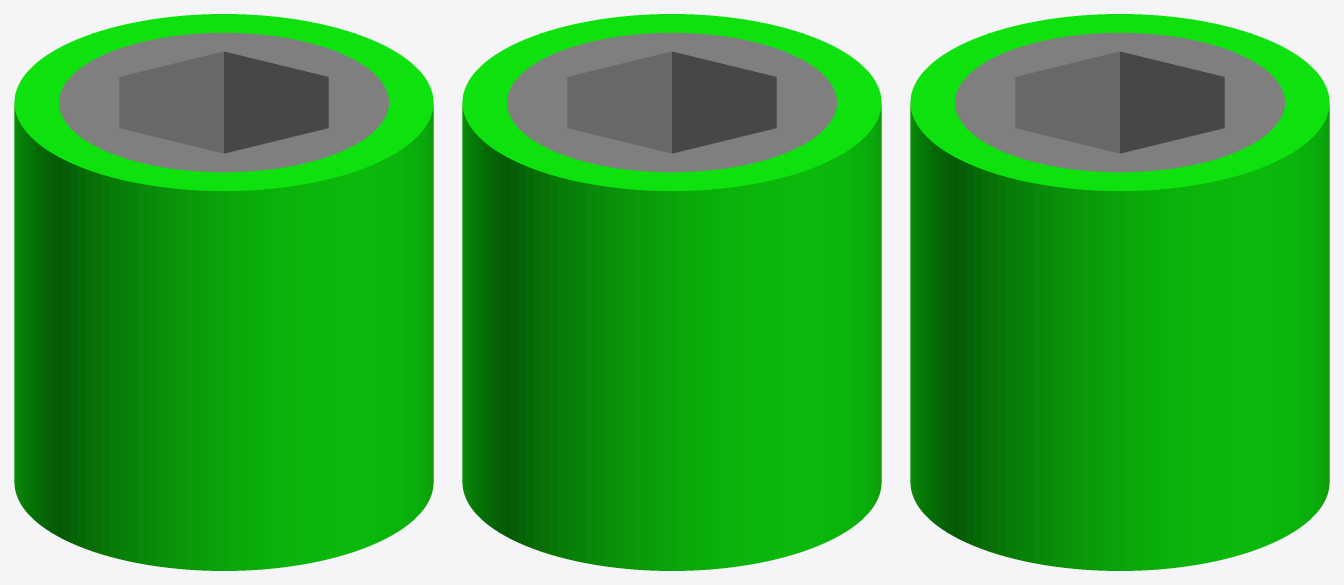
File: model_web.glb
3 renders of one model, left to right at view 1: azimuth 30°, elevation 25°; view 2: azimuth 150°, elevation 25°; view 3: azimuth 270°, elevation 25°, orthographic.
Parts seen in each view (by area): view 1: Node2, Node1; view 2: Node2, Node1; view 3: Node2, Node1.
Boxes of the visible parts, box(x1,y1,x2,y2) form: Node2: box(14, 14, 433, 570); Node1: box(59, 32, 388, 172); Node2: box(462, 14, 881, 570); Node1: box(507, 32, 836, 172); Node2: box(910, 14, 1329, 570); Node1: box(955, 32, 1284, 172).
Bounding box in the file's own units: 25.39 × 25.4 × 25.4.
